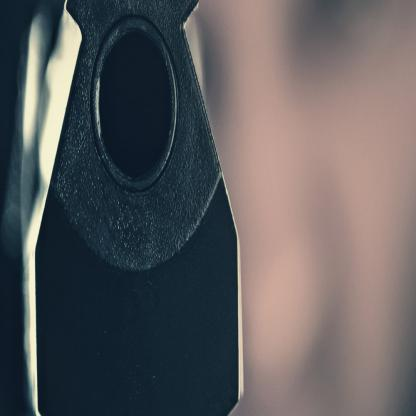gun: (13, 0, 262, 415)
